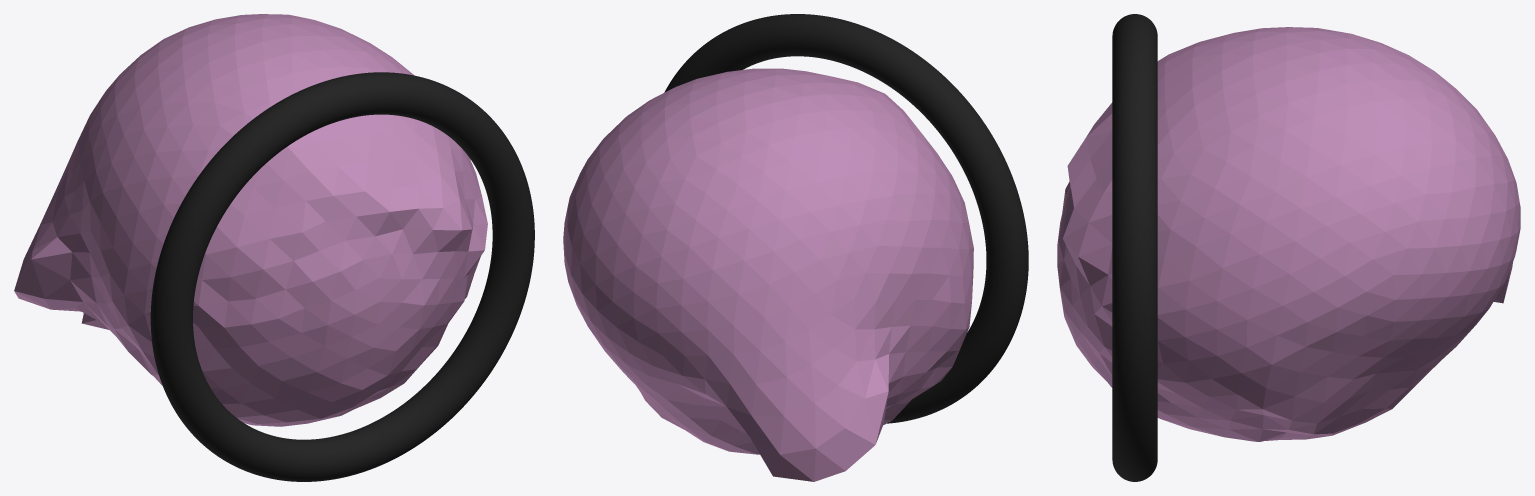
The model's file is FINAL012_with_Ring_m.glb.
The picture shows the model from 3 angles, left to right: view 1: azimuth 30°, elevation 25°; view 2: azimuth 150°, elevation 25°; view 3: azimuth 270°, elevation 25°; orthographic projection. The views are drawn at different scales.
Parts seen in each view (by area): view 1: Polyp_FINAL012, Ring_CAD; view 2: Polyp_FINAL012, Ring_CAD; view 3: Polyp_FINAL012, Ring_CAD.
Boxes of the visible parts, <box> form: Polyp_FINAL012: <box>14,14,487,426</box>; Ring_CAD: <box>150,72,534,481</box>; Polyp_FINAL012: <box>563,68,973,481</box>; Ring_CAD: <box>664,14,1028,423</box>; Polyp_FINAL012: <box>1057,27,1520,441</box>; Ring_CAD: <box>1112,14,1157,481</box>.
Size of the model in its own units: 0.0124 by 0.0124 by 0.0123.
